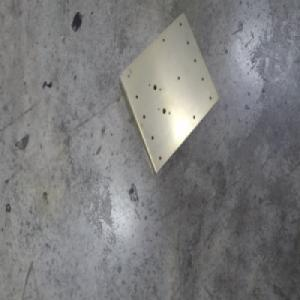MetalSheet: (116, 11, 219, 177)
